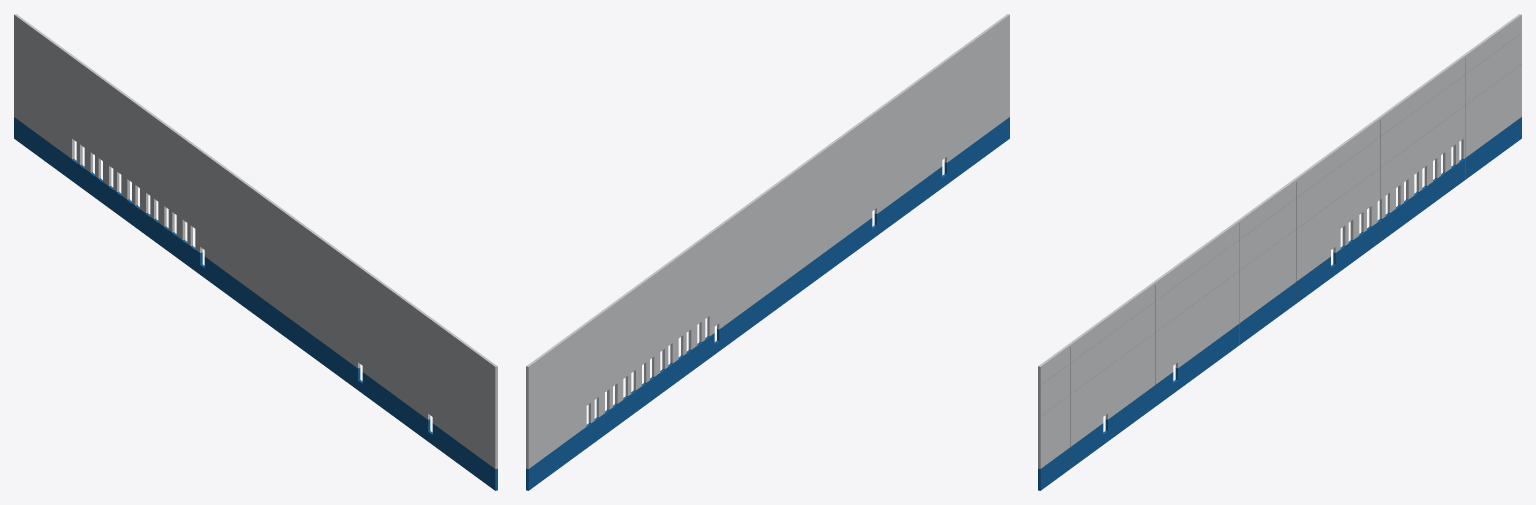
Rendered from SM_MPR_CAD_WindowFacade_05_20261112.fbx.
3 renders of one model, left to right at view 1: azimuth 30°, elevation 25°; view 2: azimuth 150°, elevation 25°; view 3: azimuth 330°, elevation 25°, orthographic.
Parts seen in each view (by area): view 1: SM_MPR_CAD_WindowFacade_05_20261112; view 2: SM_MPR_CAD_WindowFacade_05_20261112; view 3: SM_MPR_CAD_WindowFacade_05_20261112.
Boxes of the visible parts, x1,y1,x2,y2 form: SM_MPR_CAD_WindowFacade_05_20261112: [14, 14, 497, 490]; SM_MPR_CAD_WindowFacade_05_20261112: [526, 14, 1009, 490]; SM_MPR_CAD_WindowFacade_05_20261112: [1038, 14, 1521, 490].
Bounding box in the file's own units: 31.44 × 10409 × 1480.
